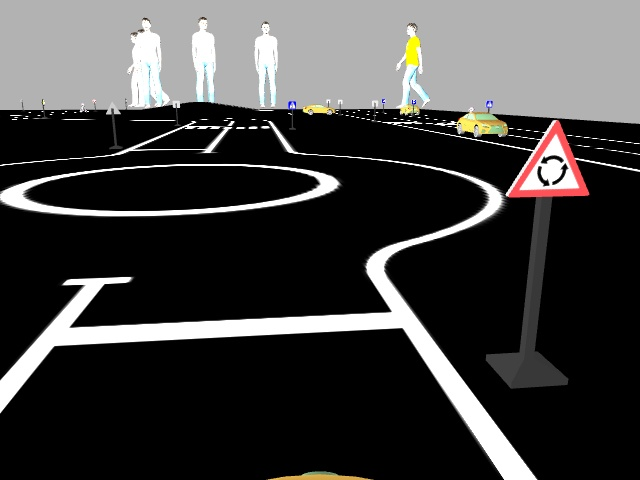Roundabout: (498, 117, 591, 199)
